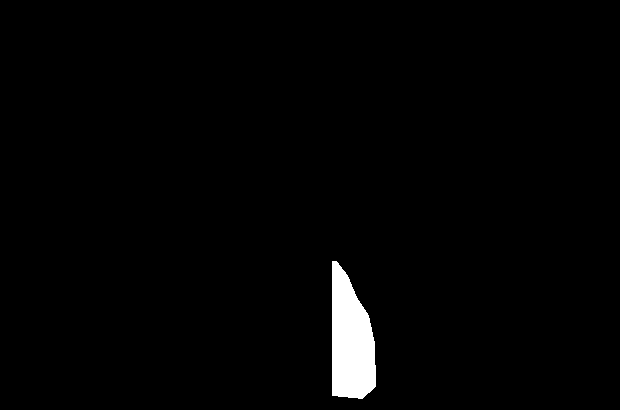type5: (325, 257, 382, 399)
